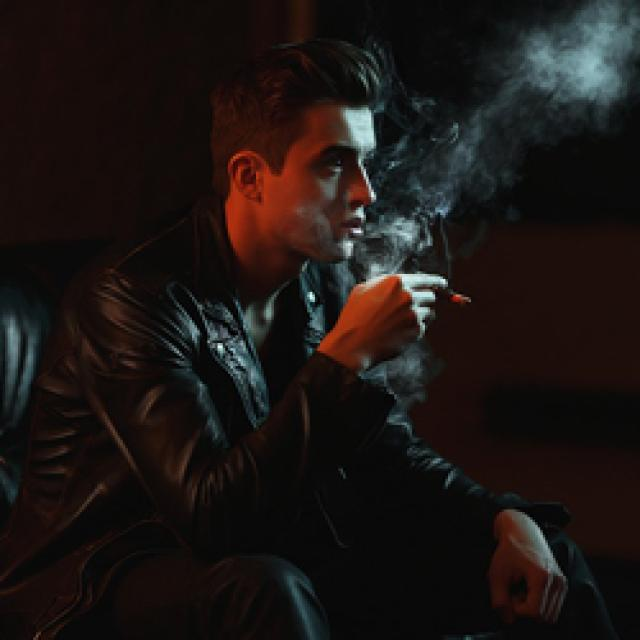Smooking: (437, 276, 476, 318)
